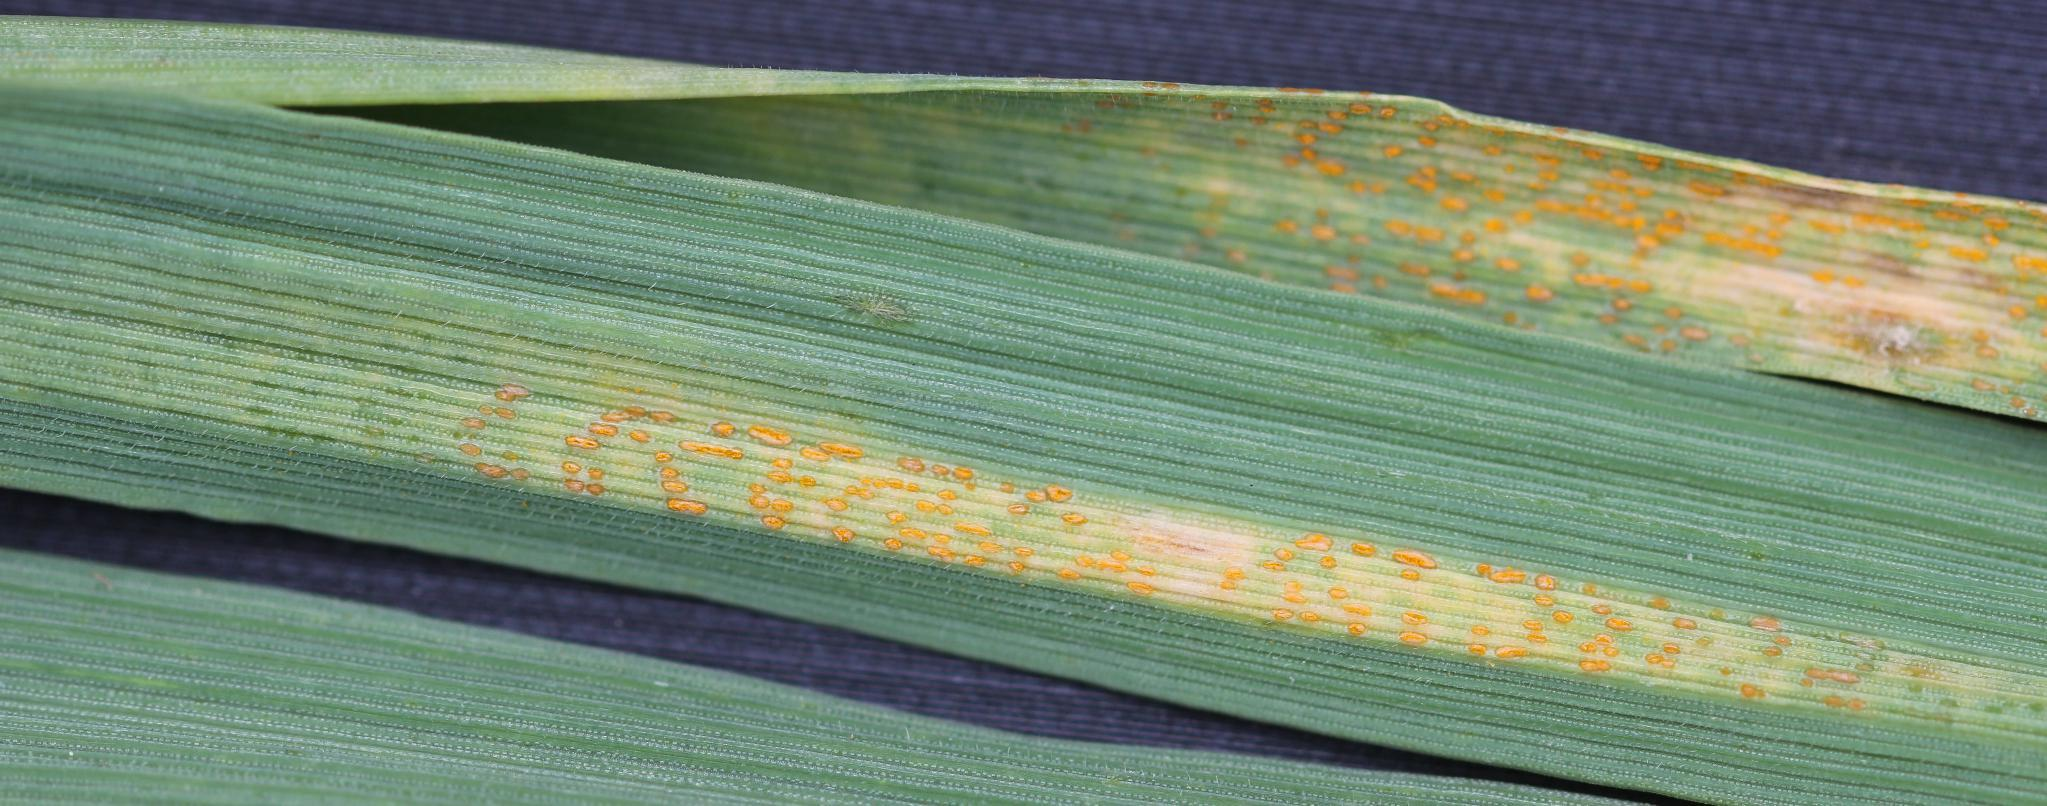Wheat: (428, 359, 1886, 741), (1235, 95, 2025, 432)
